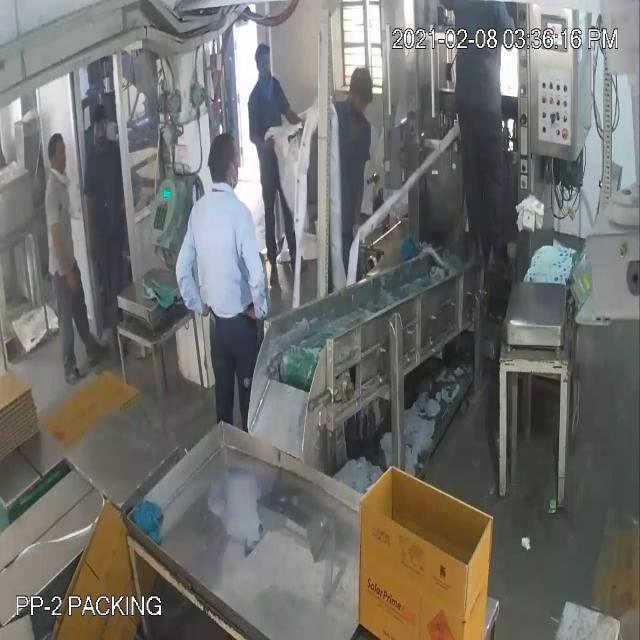No_Gloves: (38, 33, 300, 276)
